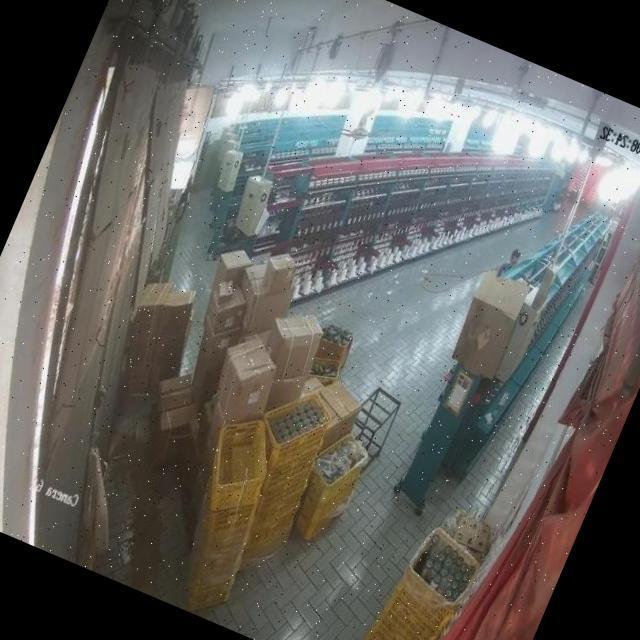person: (493, 238, 526, 282)
